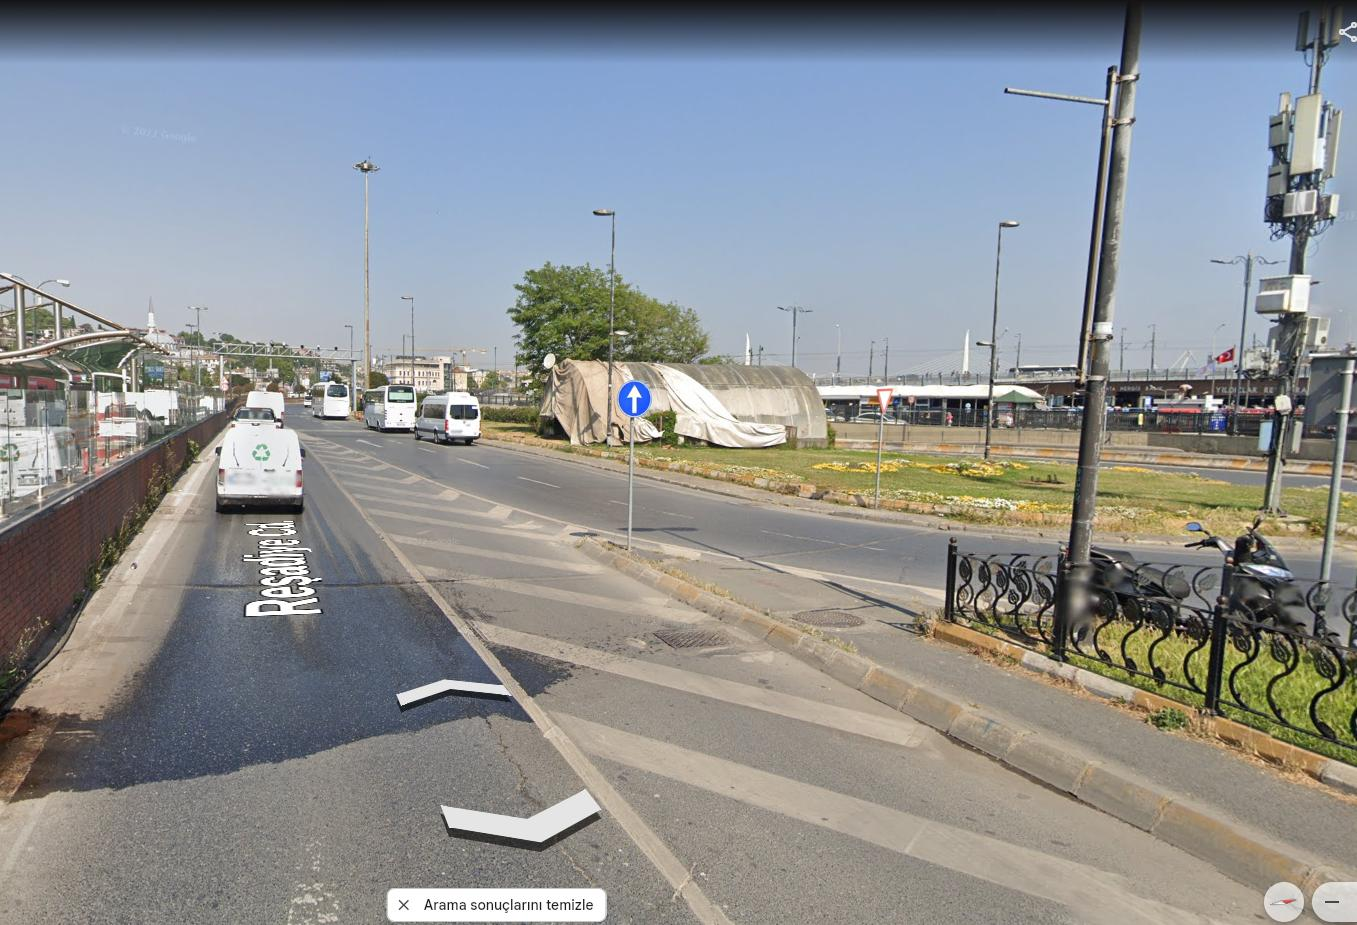forward: (618, 379, 655, 416)
